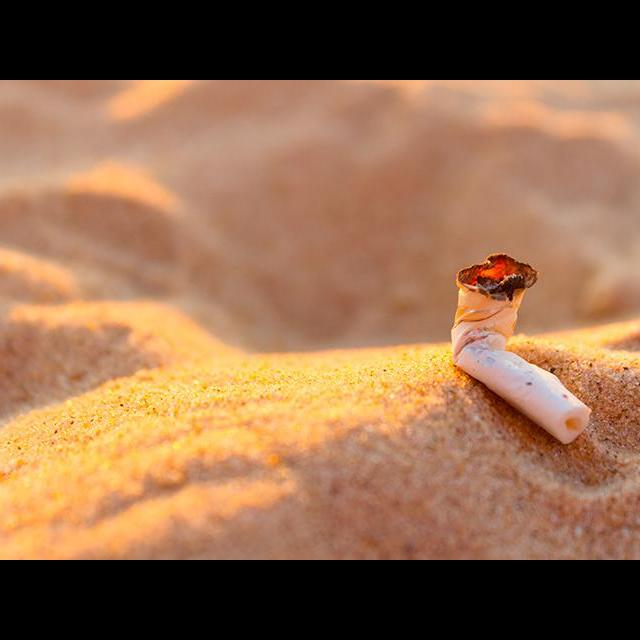Cigarette Butt: (449, 252, 595, 447)
